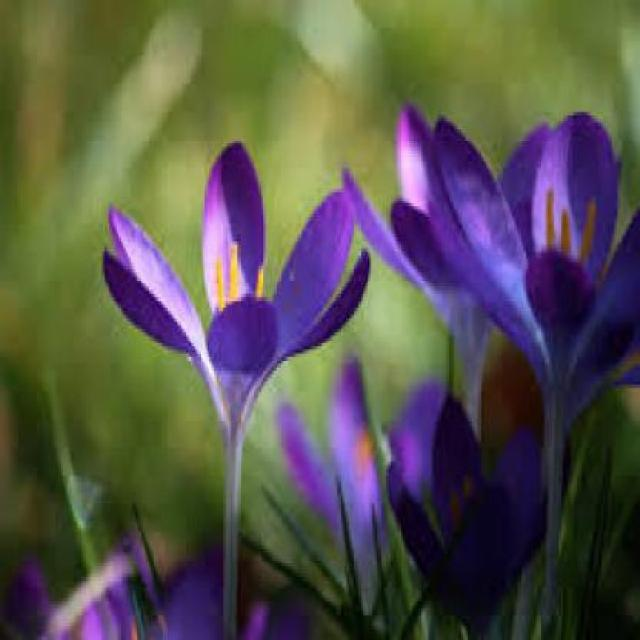saffron open: (106, 145, 368, 618), (422, 114, 640, 541), (345, 104, 492, 434), (390, 381, 544, 617), (502, 128, 541, 219)
